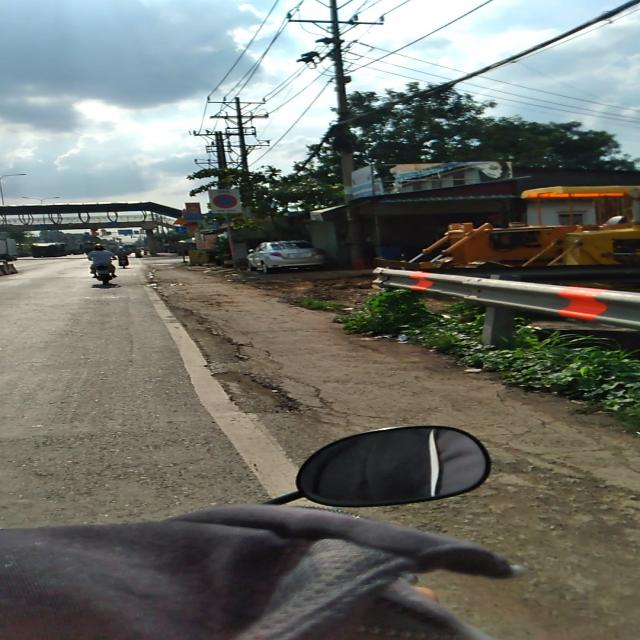Cam dung va do: (213, 194, 237, 209)
